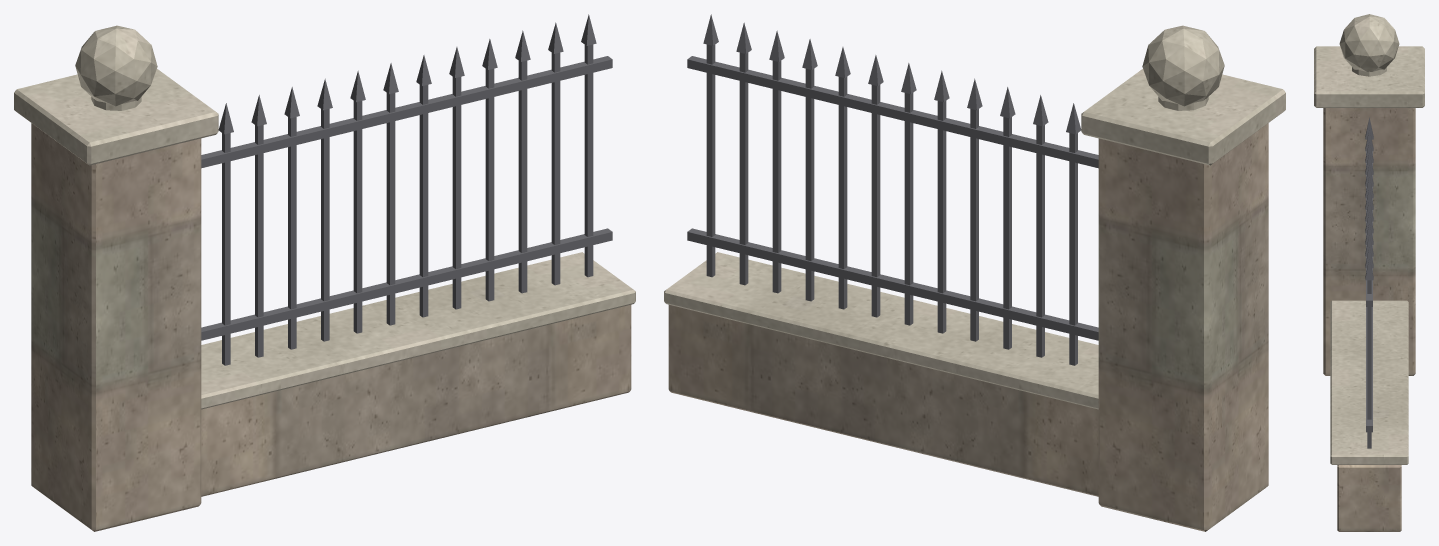
The model's file is fence.glb.
The picture shows the model from 3 angles, left to right: view 1: azimuth 30°, elevation 25°; view 2: azimuth 150°, elevation 25°; view 3: azimuth 270°, elevation 25°; orthographic projection. The views are drawn at different scales.
Visible parts, largest first — view 1: fence_bstone, fence_carve, fence_iron; view 2: fence_bstone, fence_carve, fence_iron; view 3: fence_bstone, fence_carve, fence_iron.
Boxes of the visible parts, <box> form: fence_bstone: <box>31,123,631,531</box>; fence_carve: <box>14,25,635,409</box>; fence_iron: <box>201,14,612,365</box>; fence_bstone: <box>668,123,1268,531</box>; fence_carve: <box>664,25,1285,409</box>; fence_iron: <box>687,14,1098,365</box>; fence_bstone: <box>1323,108,1415,531</box>; fence_carve: <box>1314,14,1424,464</box>; fence_iron: <box>1365,117,1373,448</box>.
Bounding box in the file's own units: 2.04 × 1.63 × 0.48.
Materials: 3 (2 with a texture image).
